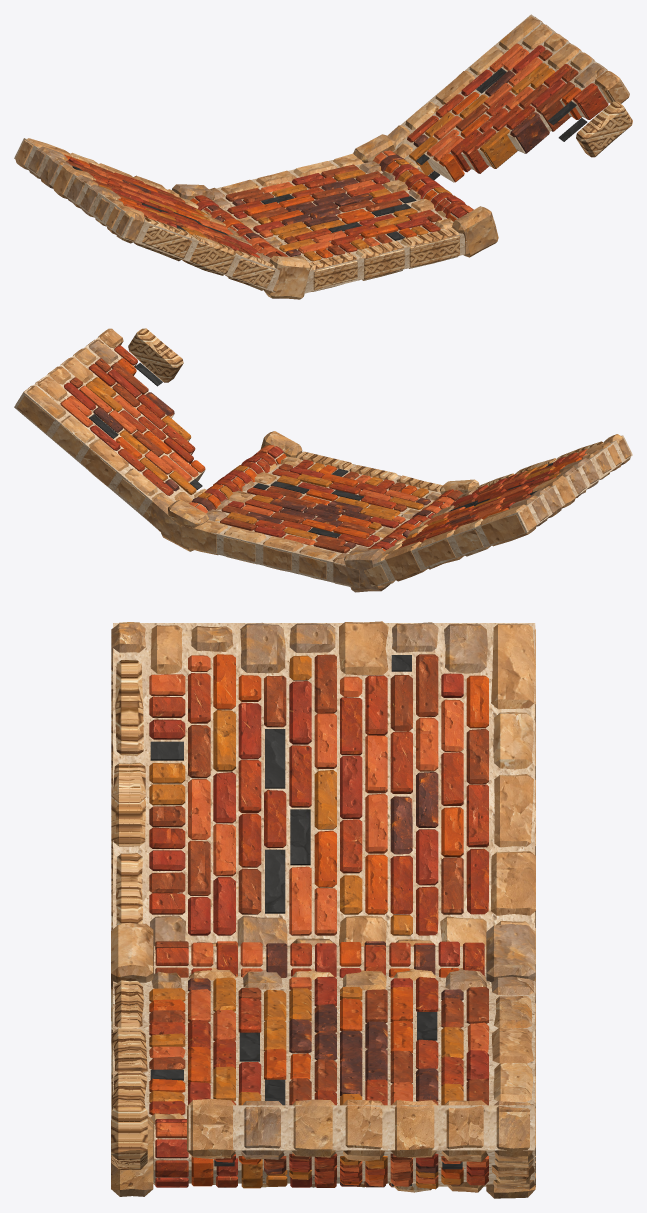
Rendered from kiln_wall_fallen__clay_brick.glb.
3 views of the same model, one above another, from view 1: azimuth 30°, elevation 25°; view 2: azimuth 150°, elevation 25°; view 3: azimuth 270°, elevation 25° (orthographic). The views are drawn at different scales.
Visible parts, largest first — view 1: model; view 2: model; view 3: model.
Part boxes in pixels (x1,y1,x2,y2): model: (14,14,632,299); model: (14,328,632,592); model: (111,621,535,1198).
Bounding box in the file's own units: 5.56 × 1.27 × 1.98.
15 materials, 15 textured.
